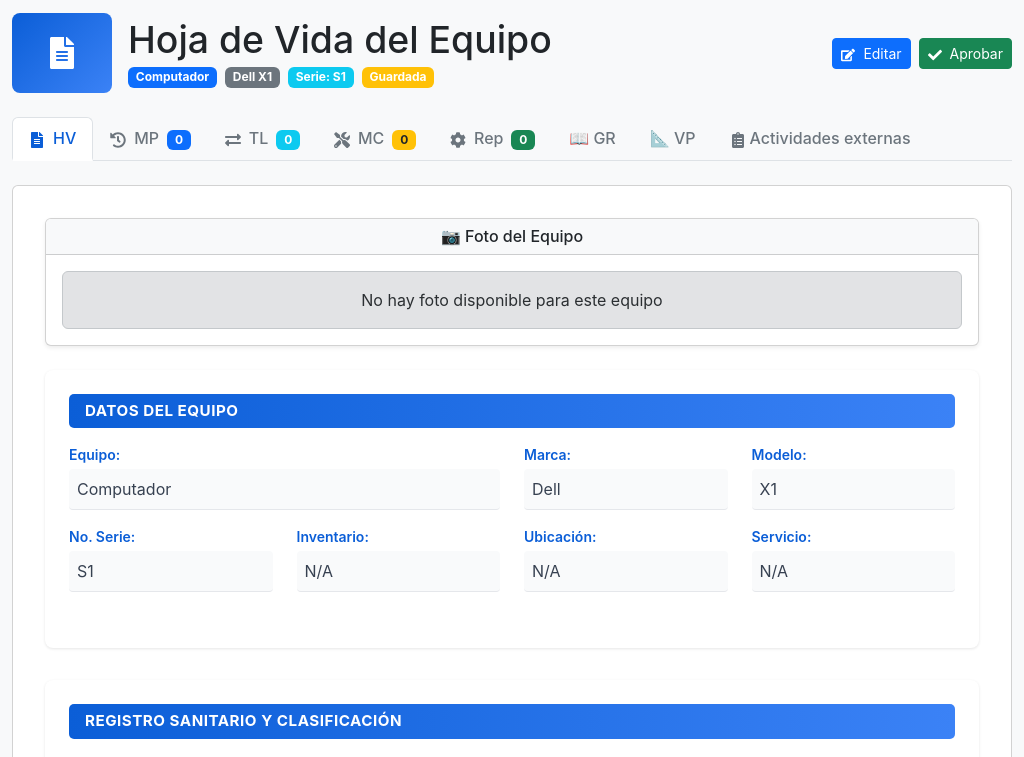
Scenario: HVEquipoPage - sparse HV › hides empty sections in view mode and shows them all in edit mode
Check: the heading "Registro Sanitario y Clasificación" is shown, box left=69, top=704, right=955, bottom=739
Step 1. Click the button "Editar" → (871, 53), box left=832, top=38, right=910, bottom=68
(page scrolled)
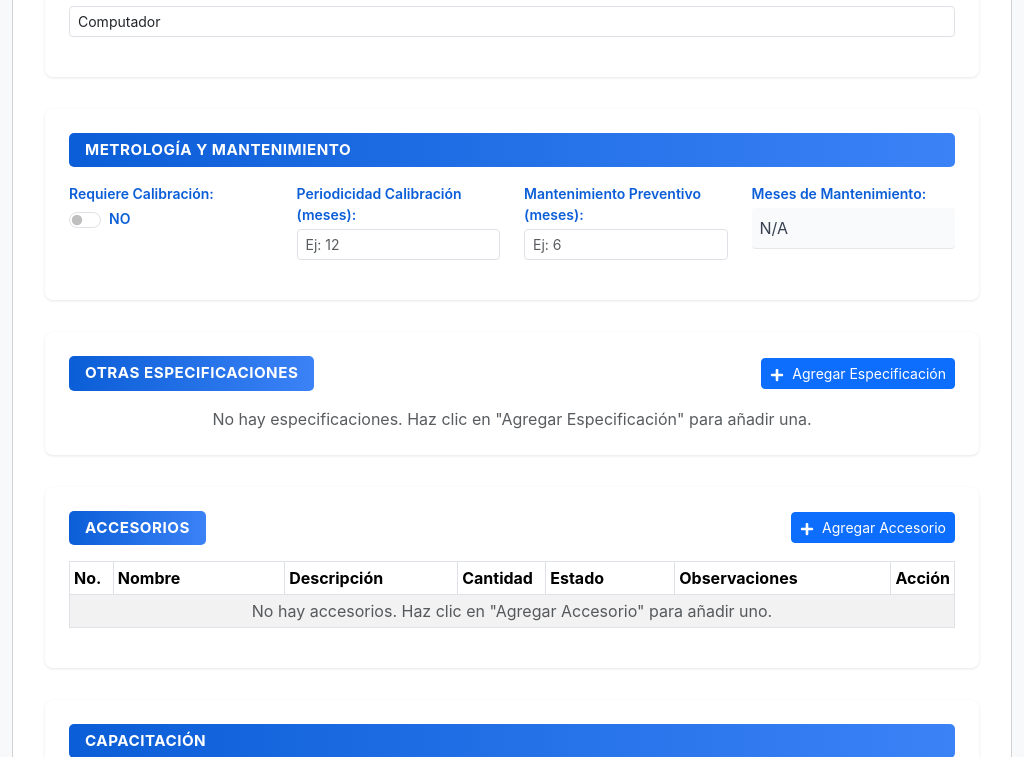
Check: the heading "Otras Especificaciones" is shown, box left=69, top=356, right=314, bottom=390
